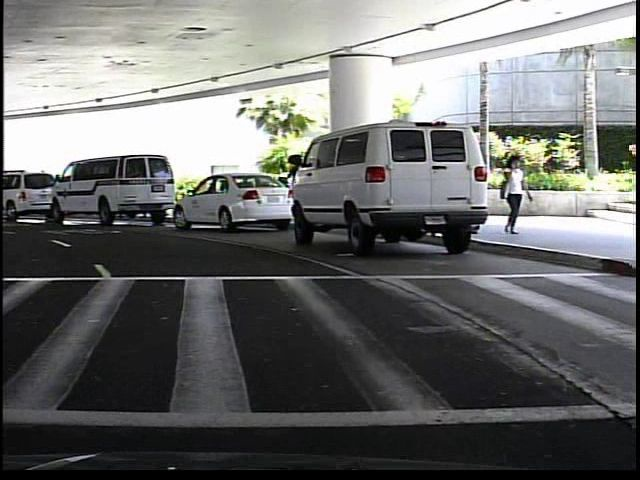person: (494, 150, 530, 240)
